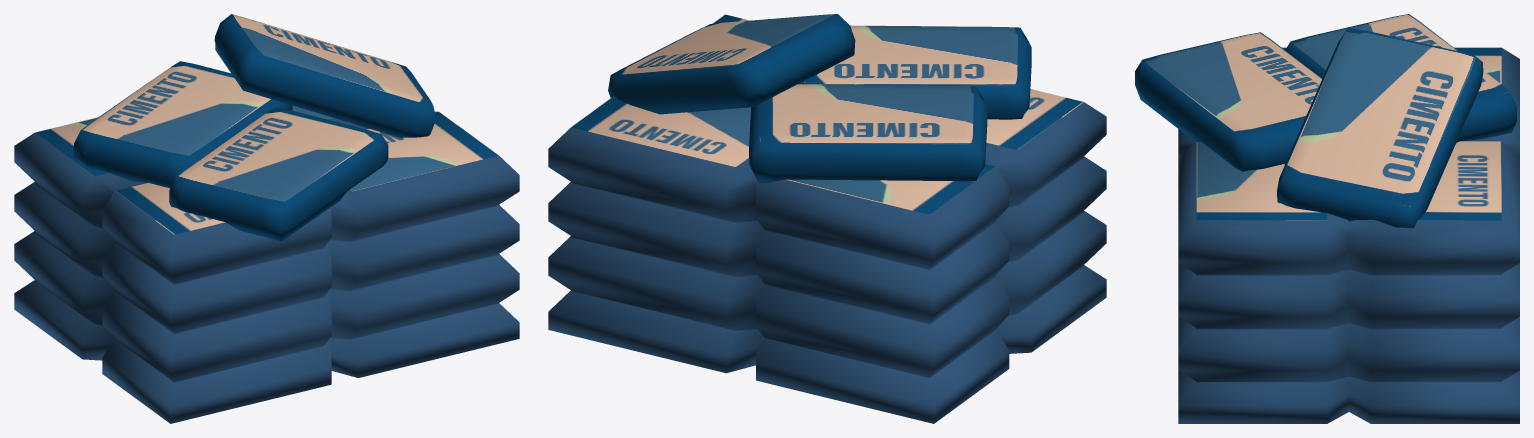
Rendered from CIMENTO.fbx.
3 renders of one model, left to right at view 1: azimuth 30°, elevation 25°; view 2: azimuth 150°, elevation 25°; view 3: azimuth 270°, elevation 25°, orthographic. The views are drawn at different scales.
Parts seen in each view (by area): view 1: Cube.037, Cube.038, Cube.042, Cube.036; view 2: Cube.037, Cube.036, Cube.042, Cube.038; view 3: Cube.037, Cube.042, Cube.038, Cube.036.
Part boxes in pixels (x1,y1,x2,y2): Cube.037: (14, 105, 519, 423); Cube.038: (169, 107, 388, 241); Cube.042: (214, 14, 435, 137); Cube.036: (74, 61, 292, 188); Cube.037: (548, 14, 1106, 423); Cube.036: (749, 84, 987, 183); Cube.042: (608, 14, 855, 114); Cube.038: (798, 25, 1031, 119); Cube.037: (1178, 47, 1519, 423); Cube.042: (1277, 28, 1483, 228); Cube.038: (1135, 32, 1321, 171); Cube.036: (1285, 14, 1516, 141).
Bounding box in the file's own units: 322 × 241 × 282.
